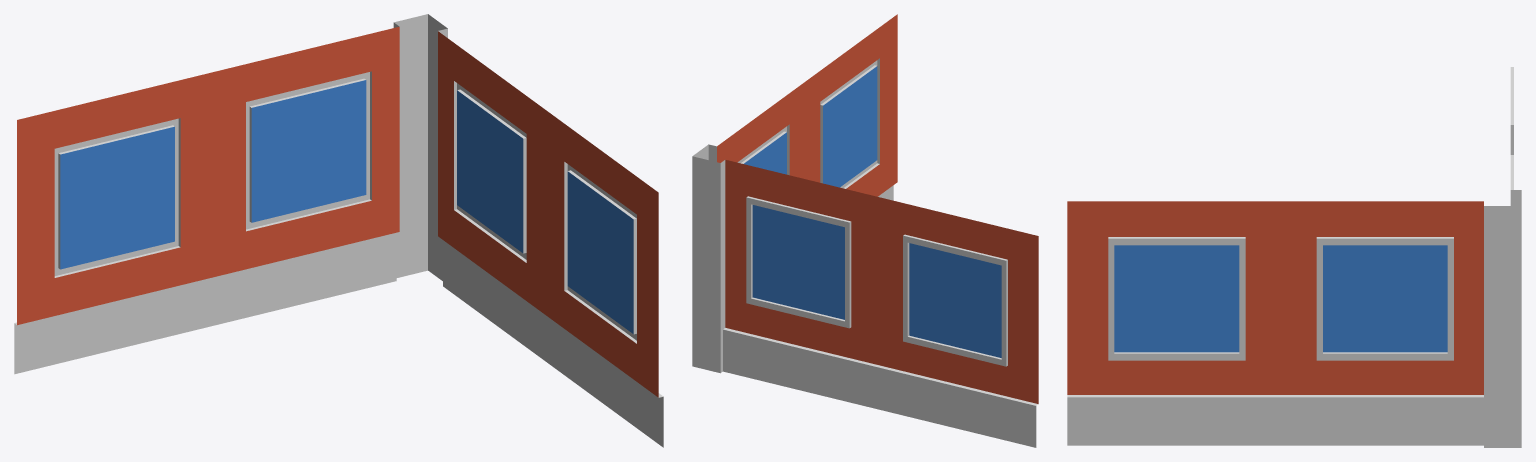
The picture shows the model from 3 angles, left to right: view 1: azimuth 30°, elevation 25°; view 2: azimuth 150°, elevation 25°; view 3: azimuth 270°, elevation 25°; orthographic projection. The views are drawn at different scales.
Parts seen in each view (by area): view 1: 01a_Base; view 2: 01a_Base; view 3: 01a_Base.
Part boxes in pixels (<box>): 01a_Base: <box>14,14,663,447</box>; 01a_Base: <box>692,14,1038,447</box>; 01a_Base: <box>1067,67,1521,447</box>.
Bounding box in the file's own units: 42.5 × 42.5 × 25.
